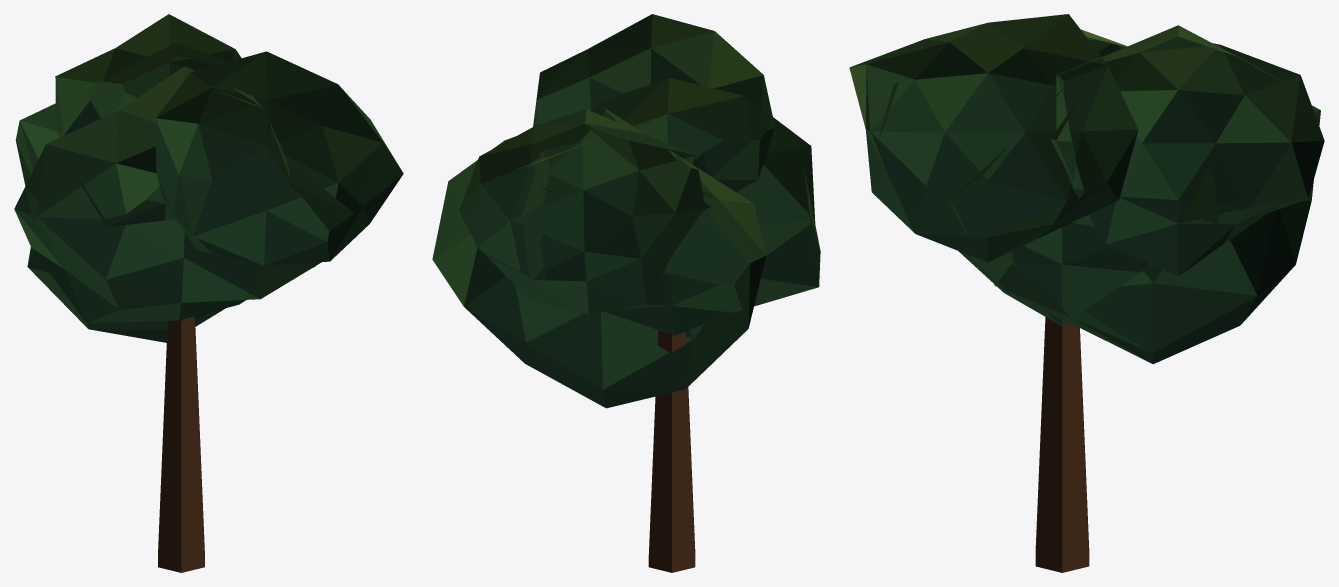
Rendered from broadleaf_1.gltf.
The picture shows the model from 3 angles, left to right: view 1: azimuth 30°, elevation 25°; view 2: azimuth 150°, elevation 25°; view 3: azimuth 270°, elevation 25°; orthographic projection. The views are drawn at different scales.
Size of the model in its own units: 6.09 by 8.97 by 6.88.
